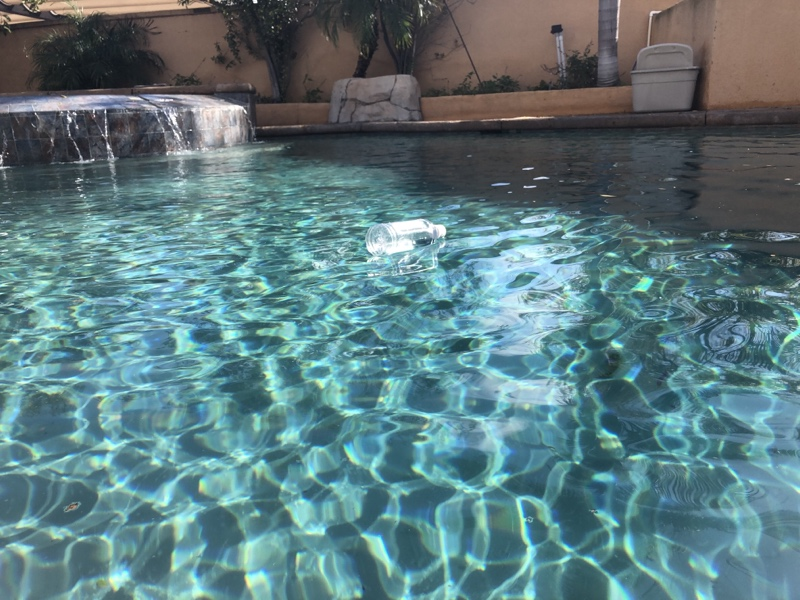Plastic Bottle: (358, 216, 451, 256)
